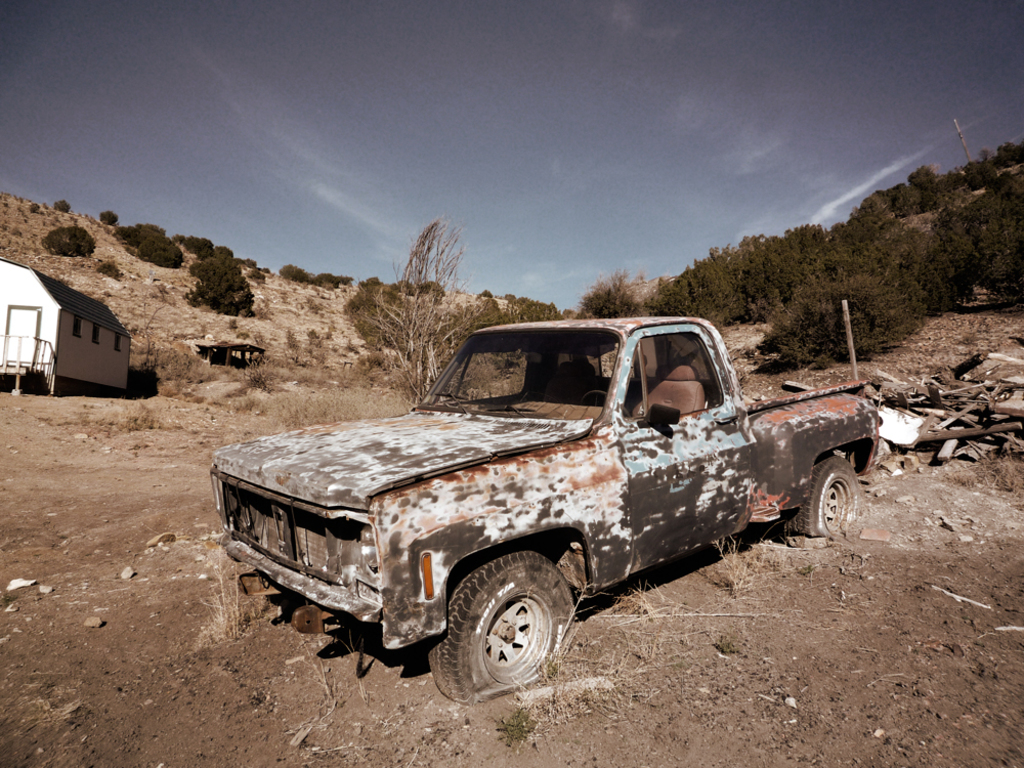Car: (209, 316, 883, 706)
